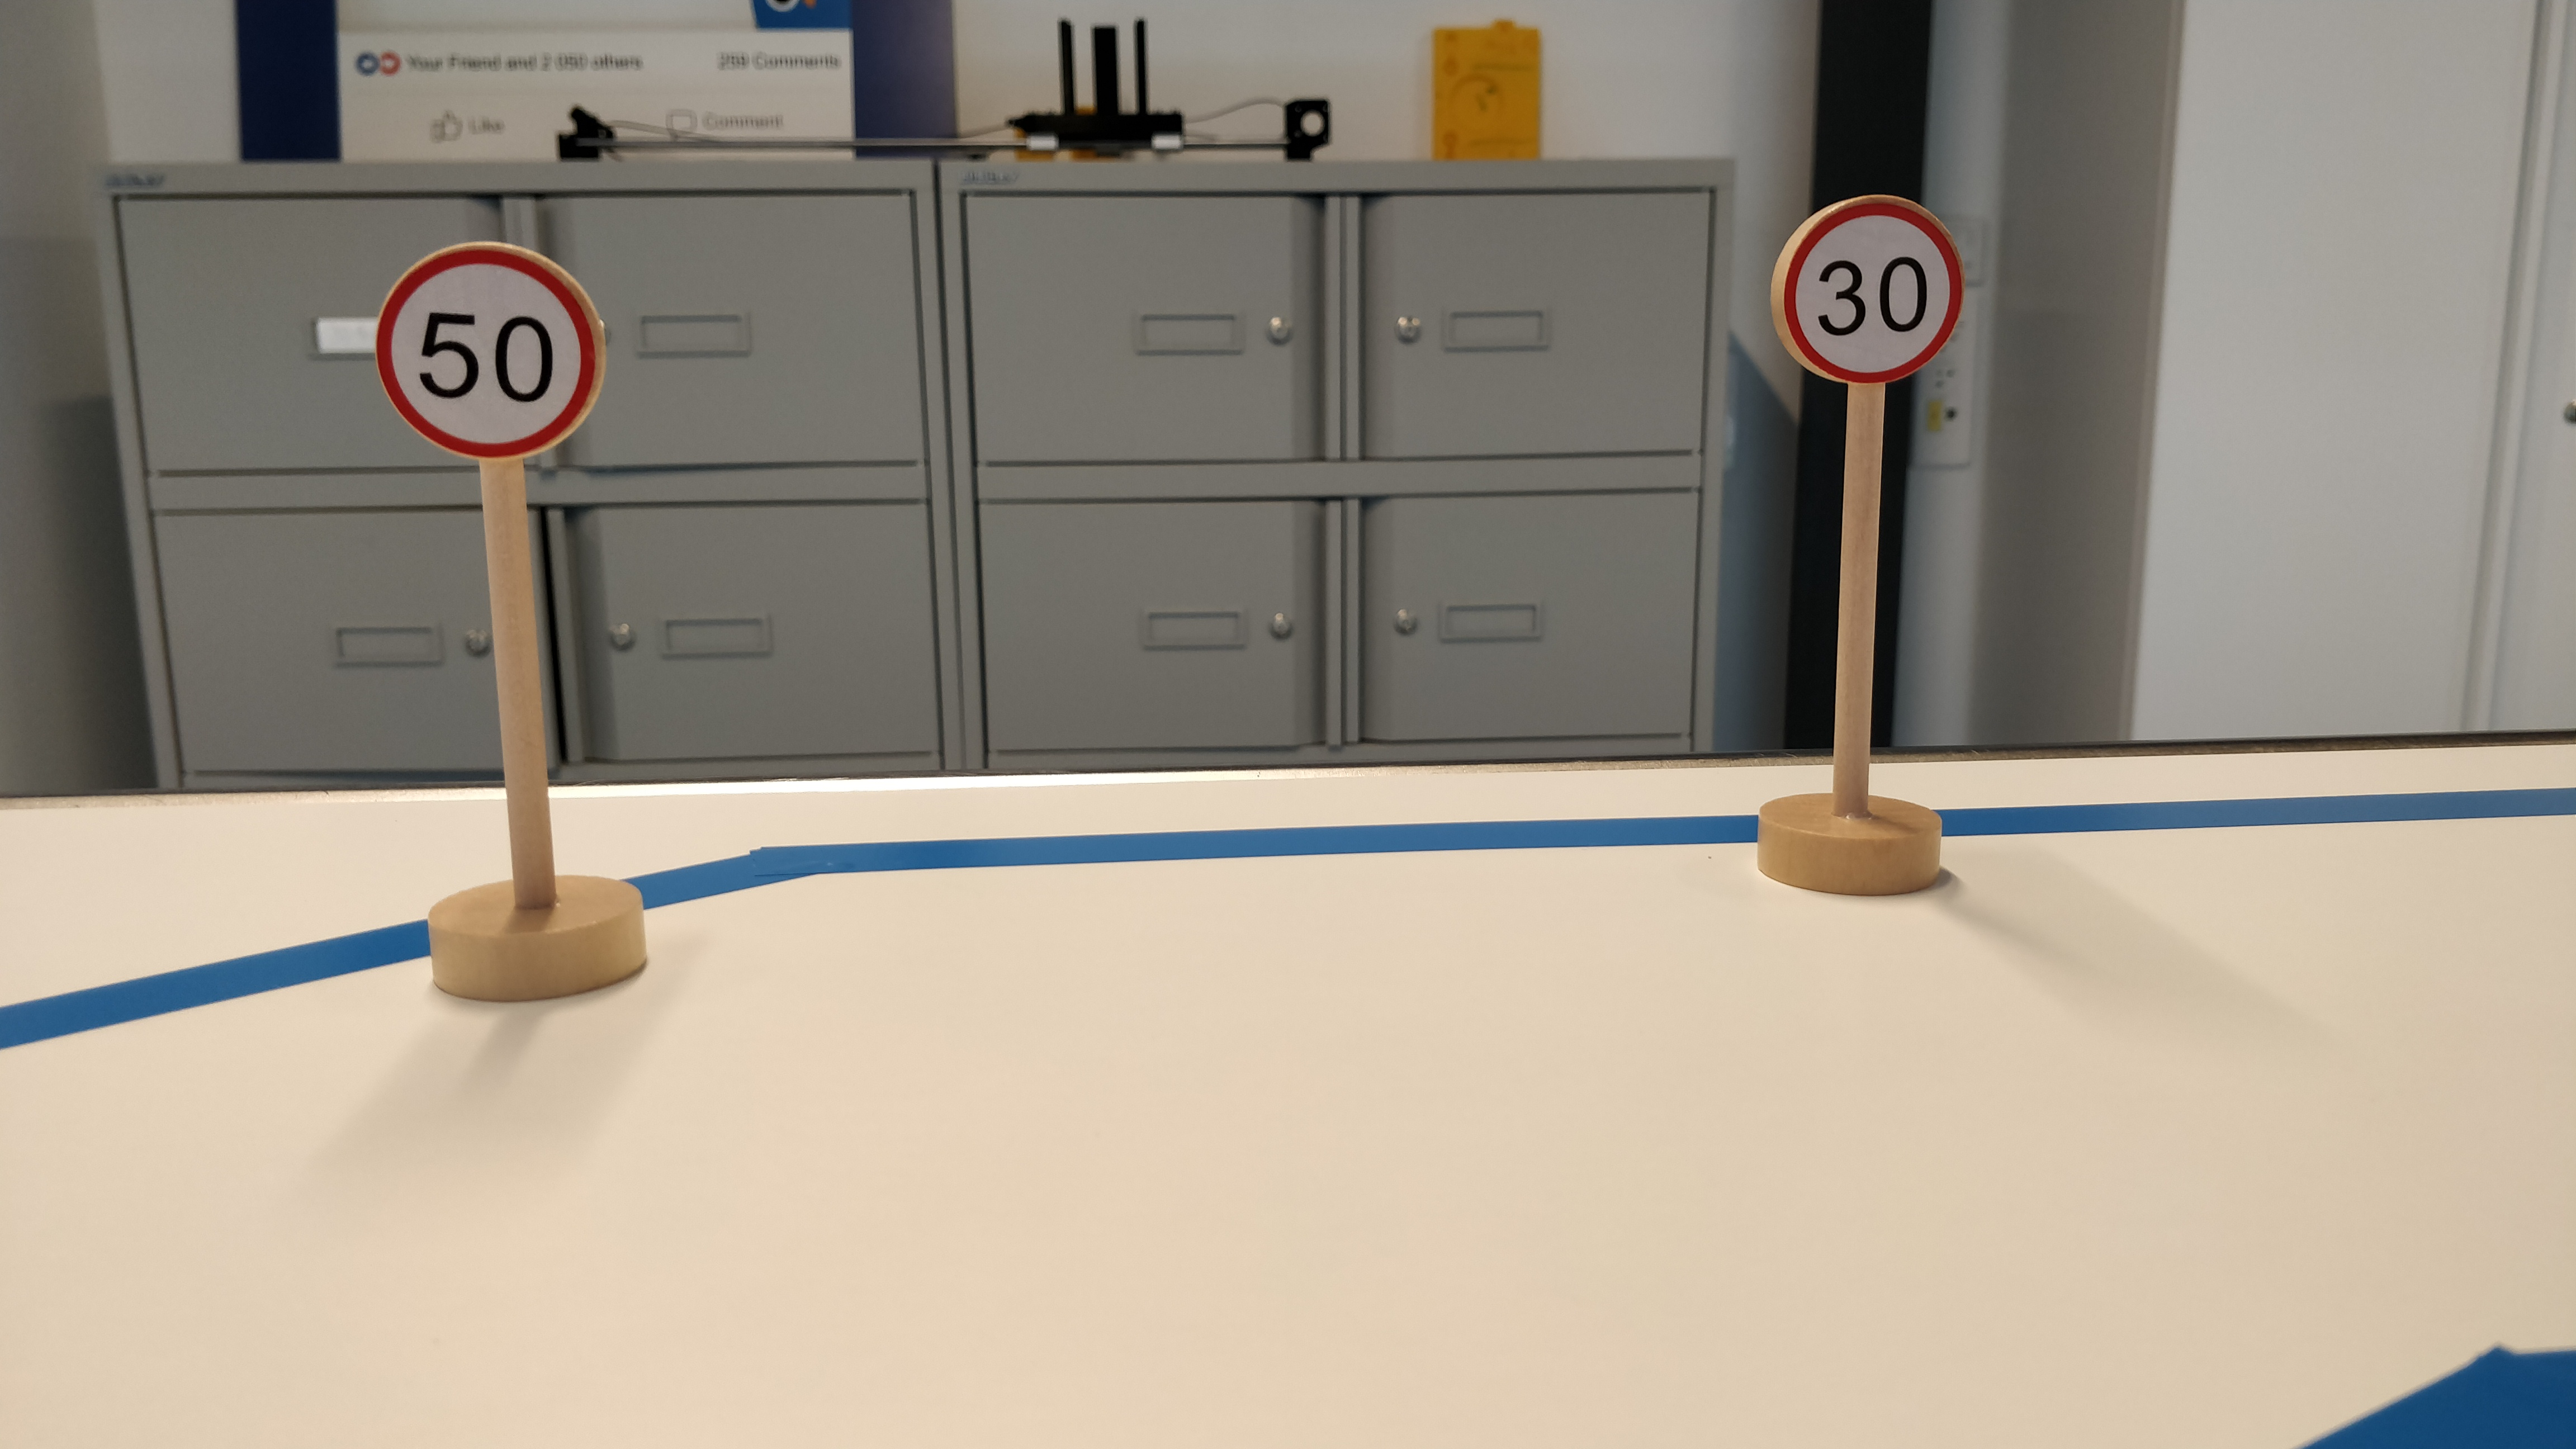Speed Limit 30: (1767, 194, 1973, 392)
Speed Limit 50: (370, 238, 617, 465)
